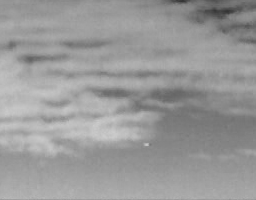Target: (144, 143, 148, 145)
